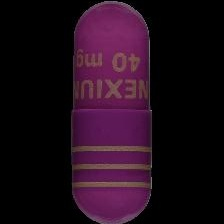50090-0742: (0, 0, 224, 224)
